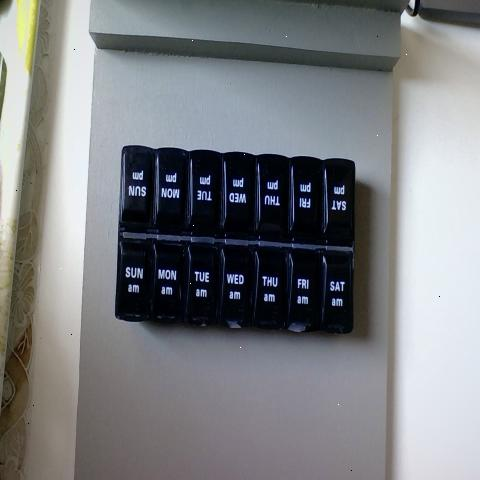FRI-am: (291, 249, 321, 330)
FRI-pm: (289, 162, 321, 247)
MON-am: (154, 244, 182, 328)
MON-pm: (154, 154, 188, 233)
PillBox: (99, 118, 371, 364)
SAT-am: (321, 245, 352, 332)
SAT-pm: (324, 160, 352, 241)
SUN-am: (118, 241, 150, 324)
SUN-pm: (124, 155, 152, 234)
THU-am: (254, 250, 288, 335)
THU-pm: (257, 159, 288, 241)
TUE-am: (188, 246, 219, 331)
TUE-pm: (191, 154, 220, 234)
WED-am: (220, 248, 254, 330)
WED-pm: (223, 154, 258, 239)
